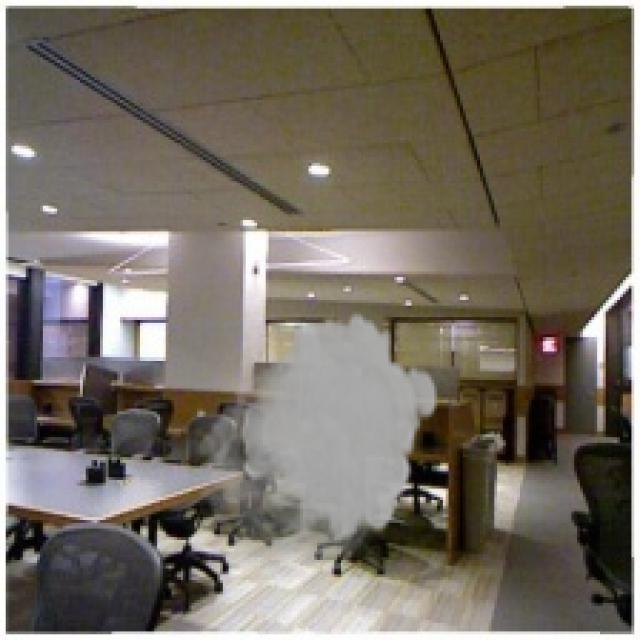smoke: (189, 308, 440, 563)
